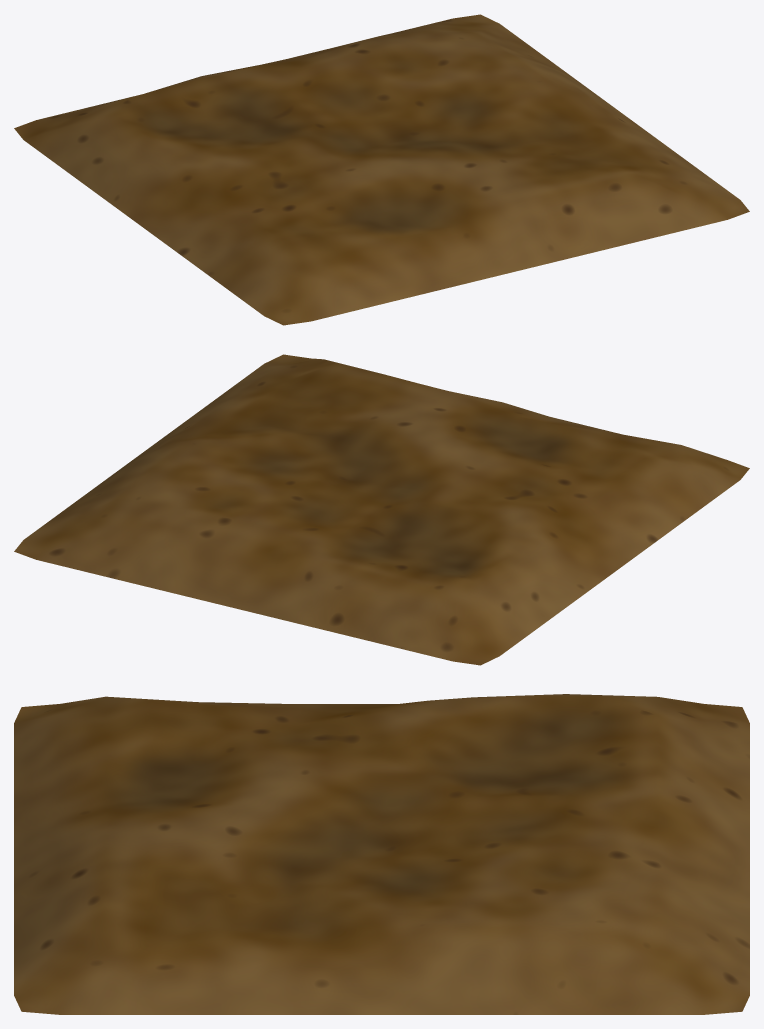
The model's file is bed.obj.
3 renders of one model, top to bottom at view 1: azimuth 30°, elevation 25°; view 2: azimuth 150°, elevation 25°; view 3: azimuth 270°, elevation 25°, orthographic. The views are drawn at different scales.
Parts seen in each view (by area): view 1: Bed_low.001_Bed; view 2: Bed_low.001_Bed; view 3: Bed_low.001_Bed.
Boxes of the visible parts, x1,y1,x2,y2 form: Bed_low.001_Bed: (14,14,749,325); Bed_low.001_Bed: (14,354,749,665); Bed_low.001_Bed: (14,694,749,1014).
Bounding box in the file's own units: 1 × 0.0801 × 1.
